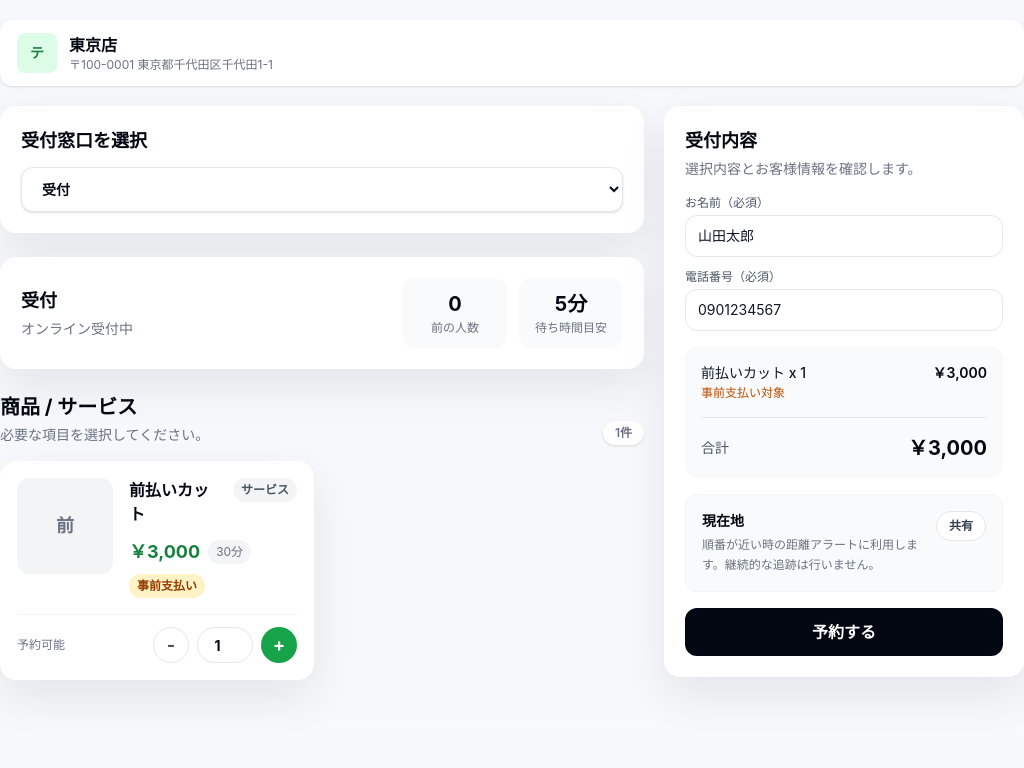
Test case: LiffCustomerJoinPage › discards a legacy used payment and keeps the cart ready for repayment
Check: the heading "東京店" is shown, box x1=69 y1=35 x2=117 y2=55
Click the button "予約する": {"x": 844, "y": 632} x1=685 y1=608 x2=1003 y2=656
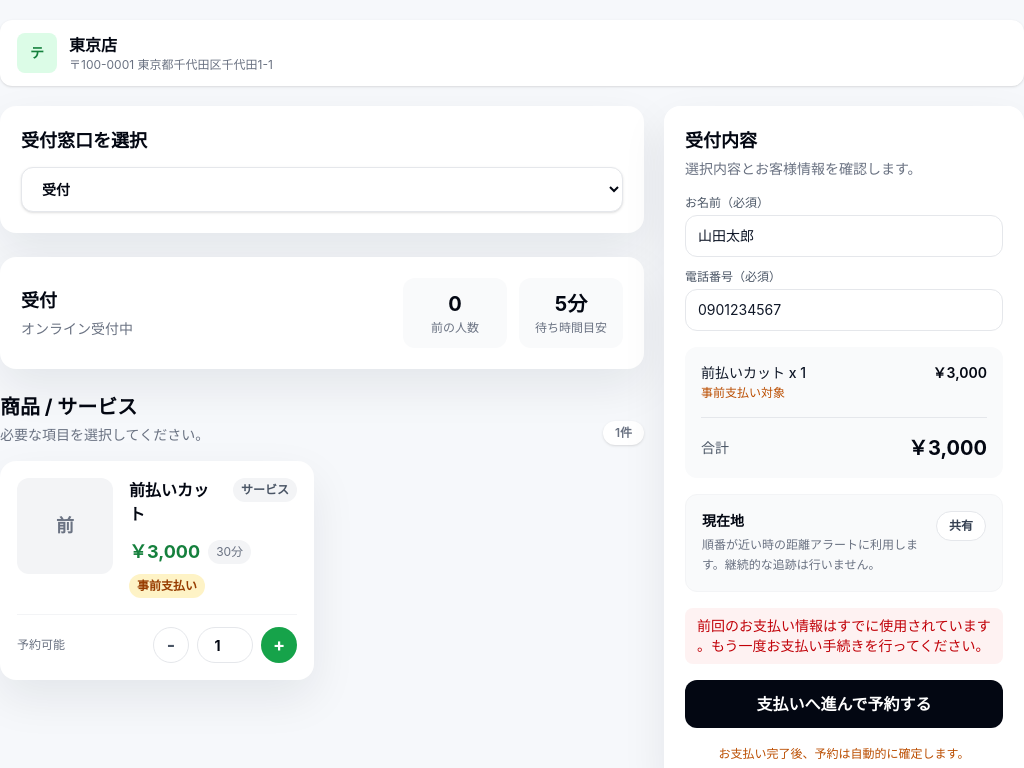
Check: the button "支払いへ進んで予約する" is enabled, box x1=685 y1=680 x2=1003 y2=728
Check: the text "前回のお支払い情報はすでに使用されています。もう一度お支払い手続きを行ってください。" is shown, box x1=685 y1=608 x2=1003 y2=664
